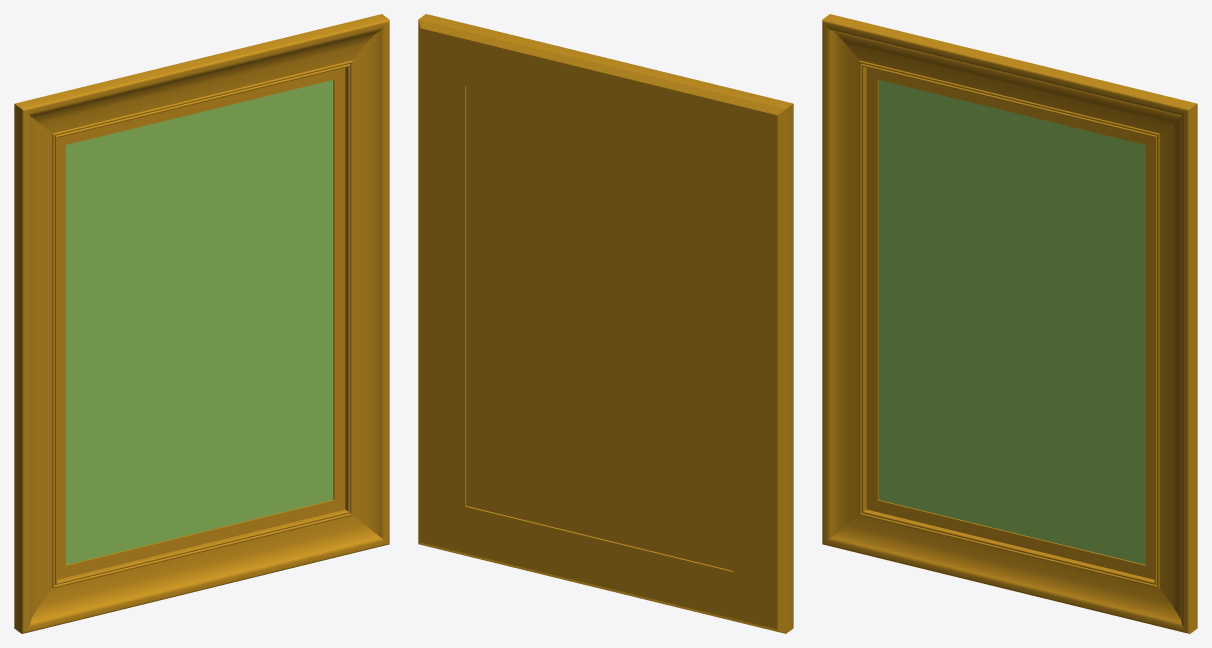
Rendered from Painting_V_1.fbx.
3 views of the same model, side by side, from view 1: azimuth 30°, elevation 25°; view 2: azimuth 150°, elevation 25°; view 3: azimuth 330°, elevation 25° (orthographic).
Parts seen in each view (by area): view 1: SM_Painting_V_1; view 2: SM_Painting_V_1; view 3: SM_Painting_V_1.
Part boxes in pixels (box(x1,y1,x2,y2)): SM_Painting_V_1: box(14, 14, 389, 633); SM_Painting_V_1: box(418, 14, 793, 633); SM_Painting_V_1: box(822, 14, 1197, 633).
Size of the model in its own units: 111 by 151 by 5.87.
